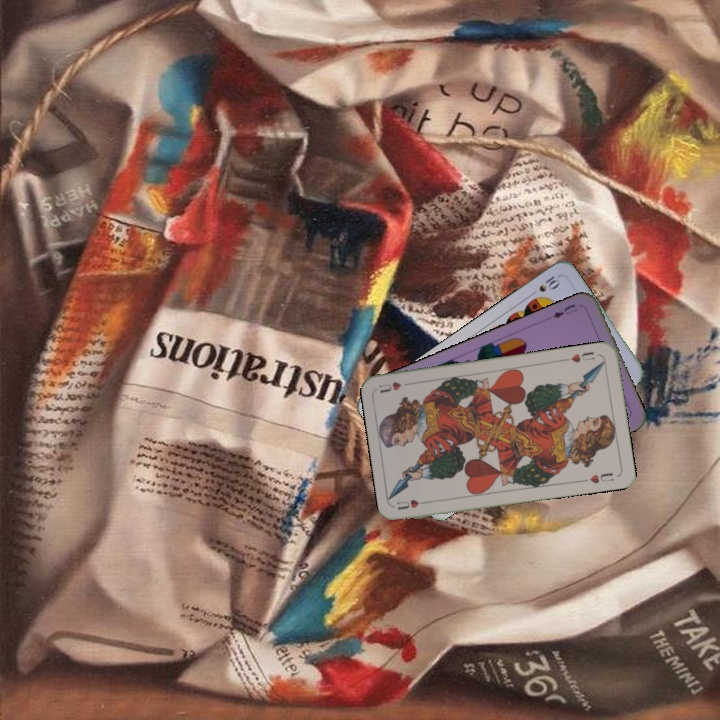EU: (549, 300, 580, 321)
HU: (393, 495, 433, 512), (567, 347, 597, 365)
S10: (526, 272, 563, 299)
